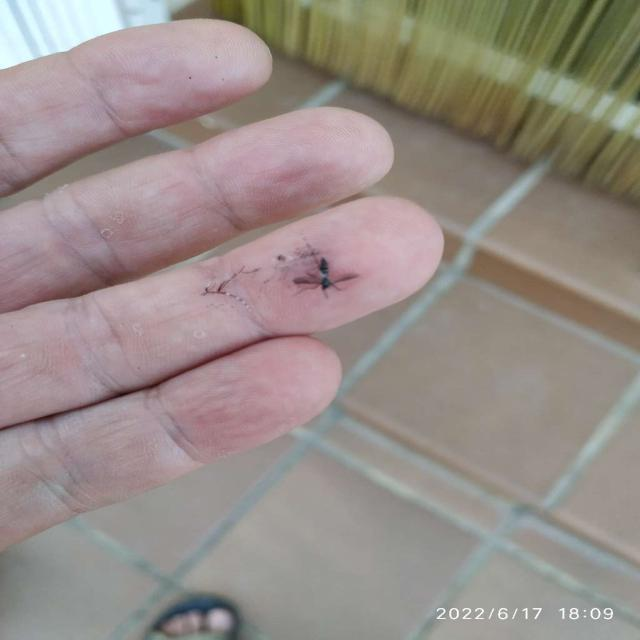albopictus: (268, 238, 361, 305)
